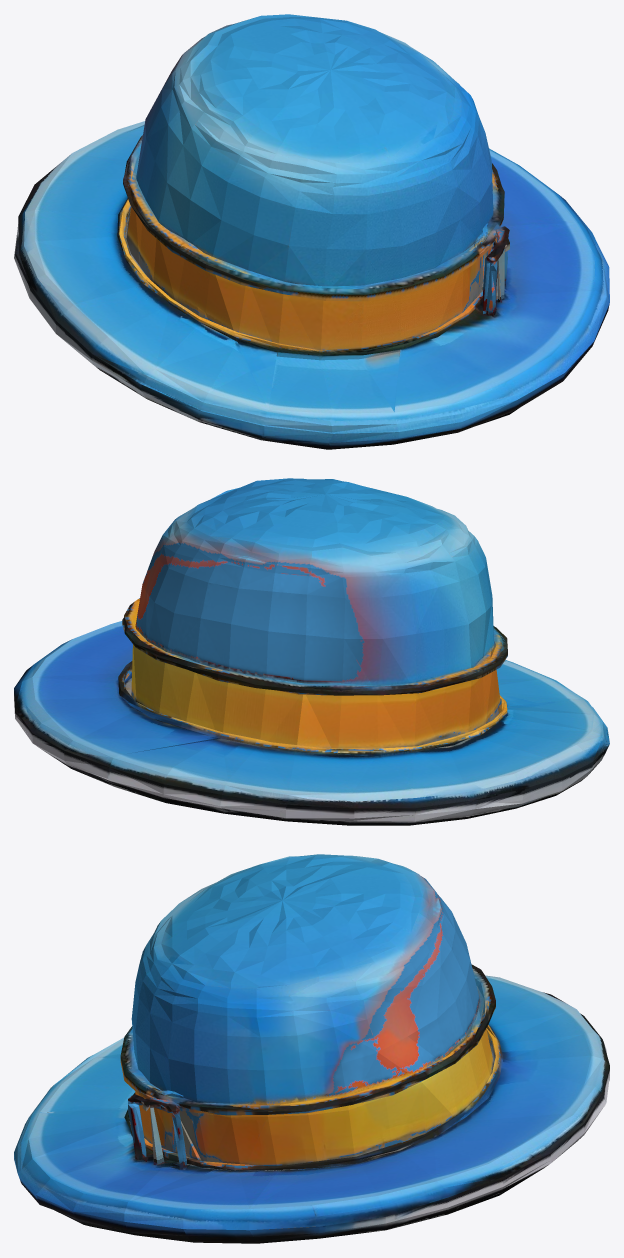
File: chapeus_01.glb
3 renders of one model, top to bottom at view 1: azimuth 30°, elevation 25°; view 2: azimuth 150°, elevation 25°; view 3: azimuth 270°, elevation 25°, orthographic.
Parts seen in each view (by area): view 1: tripo_part_1_item_01, tripo_part_2_item_01, tripo_part_4_item_01, tripo_part_16_item_01; view 2: tripo_part_1_item_01, tripo_part_2_item_01, tripo_part_4_item_01; view 3: tripo_part_1_item_01, tripo_part_2_item_01, tripo_part_4_item_01, tripo_part_16_item_01, tripo_part_19_item_01.
Boxes of the visible parts, x1=… form: tripo_part_1_item_01: x1=14, y1=121, x2=609, y2=449; tripo_part_2_item_01: x1=136, y1=14, x2=493, y2=302; tripo_part_4_item_01: x1=123, y1=135, x2=504, y2=359; tripo_part_16_item_01: x1=483, y1=226, x2=509, y2=316; tripo_part_1_item_01: x1=14, y1=621, x2=609, y2=825; tripo_part_2_item_01: x1=135, y1=478, x2=494, y2=732; tripo_part_4_item_01: x1=122, y1=598, x2=507, y2=695; tripo_part_1_item_01: x1=14, y1=975, x2=609, y2=1243; tripo_part_2_item_01: x1=131, y1=854, x2=479, y2=1164; tripo_part_4_item_01: x1=120, y1=964, x2=495, y2=1115; tripo_part_16_item_01: x1=128, y1=1094, x2=186, y2=1163; tripo_part_19_item_01: x1=139, y1=1108, x2=189, y2=1169.
Size of the model in its own units: 0.3111 by 0.1624 by 0.317.
Materials: 10 (10 with a texture image).
